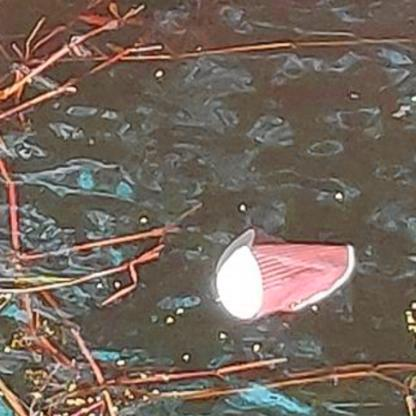Plastic: (213, 236, 357, 324)
